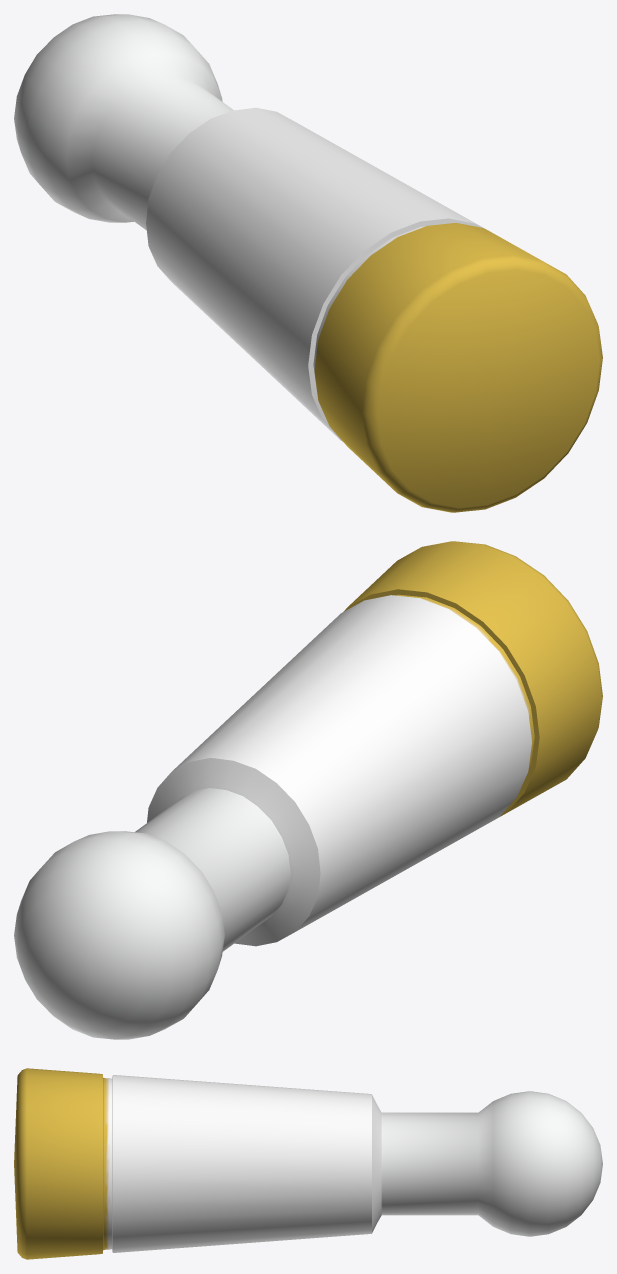
Rendered from switch2.gltf.
3 renders of one model, top to bottom at view 1: azimuth 30°, elevation 25°; view 2: azimuth 150°, elevation 25°; view 3: azimuth 270°, elevation 25°, orthographic. The views are drawn at different scales.
Parts seen in each view (by area): view 1: switch; view 2: switch; view 3: switch.
Part boxes in pixels (bbox=[...]): switch: bbox=[14, 14, 602, 512]; switch: bbox=[14, 541, 602, 1039]; switch: bbox=[14, 1068, 602, 1259].
Bounding box in the file's own units: 0.00758 × 0.00758 × 0.0232.
